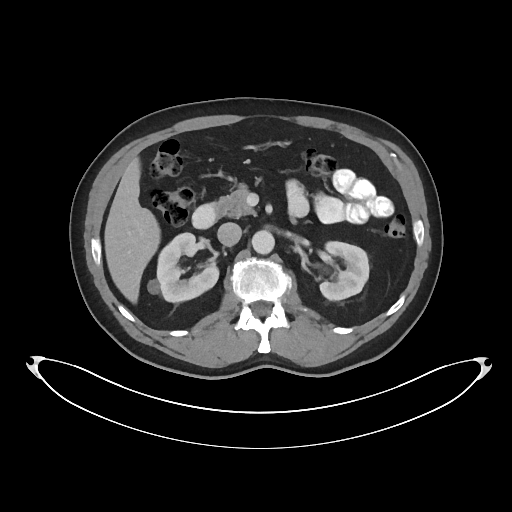Lesion: (143, 277, 167, 301)
